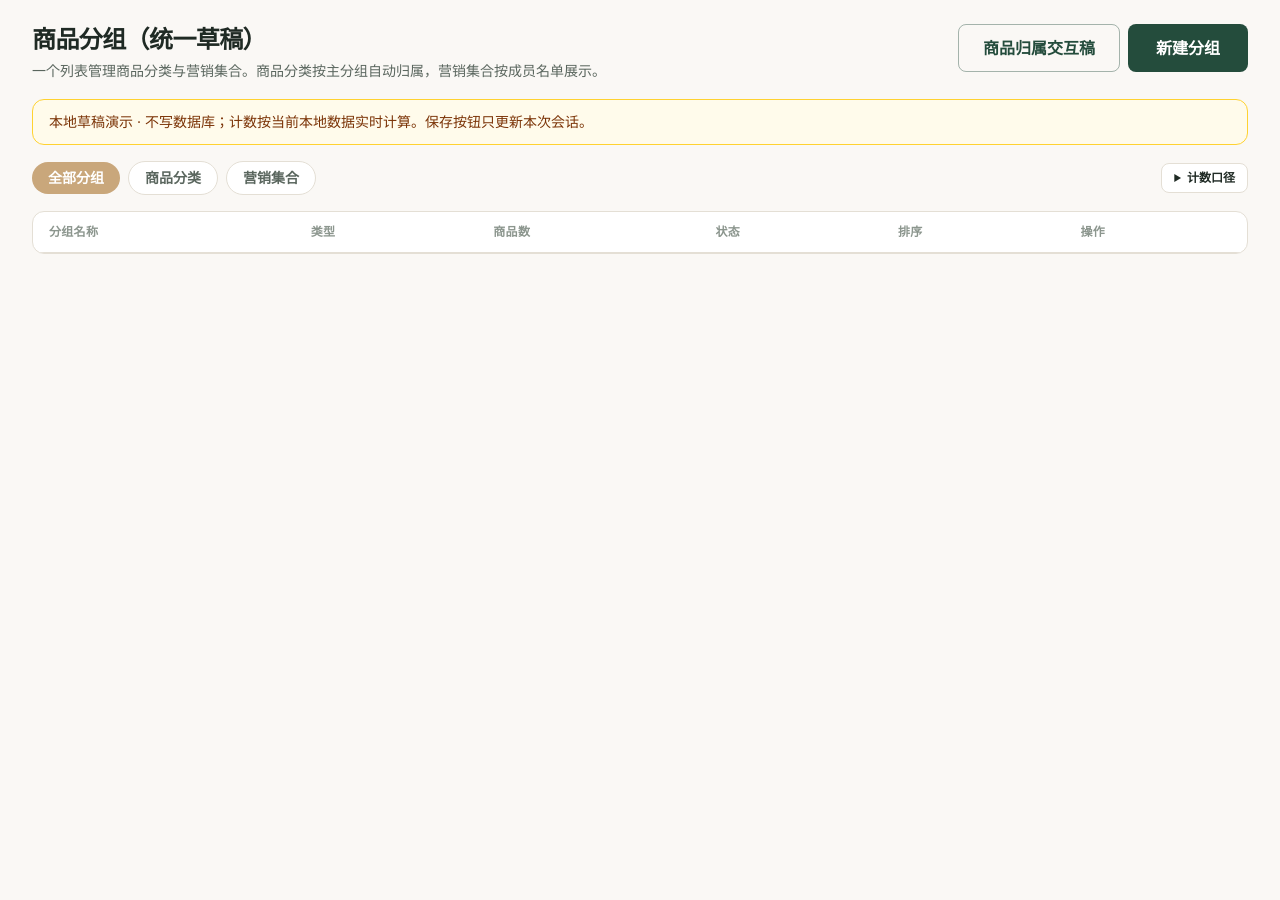
Test: UnifiedGroupsDraft › shows the selected product's thumbnail and SKU in the assignment draft
Expected: the heading "商品分组（统一草稿）" is shown, [32,25,266,54]
Step 1. Click the button "商品归属交互稿" → (1039, 48), box [958,24,1120,72]
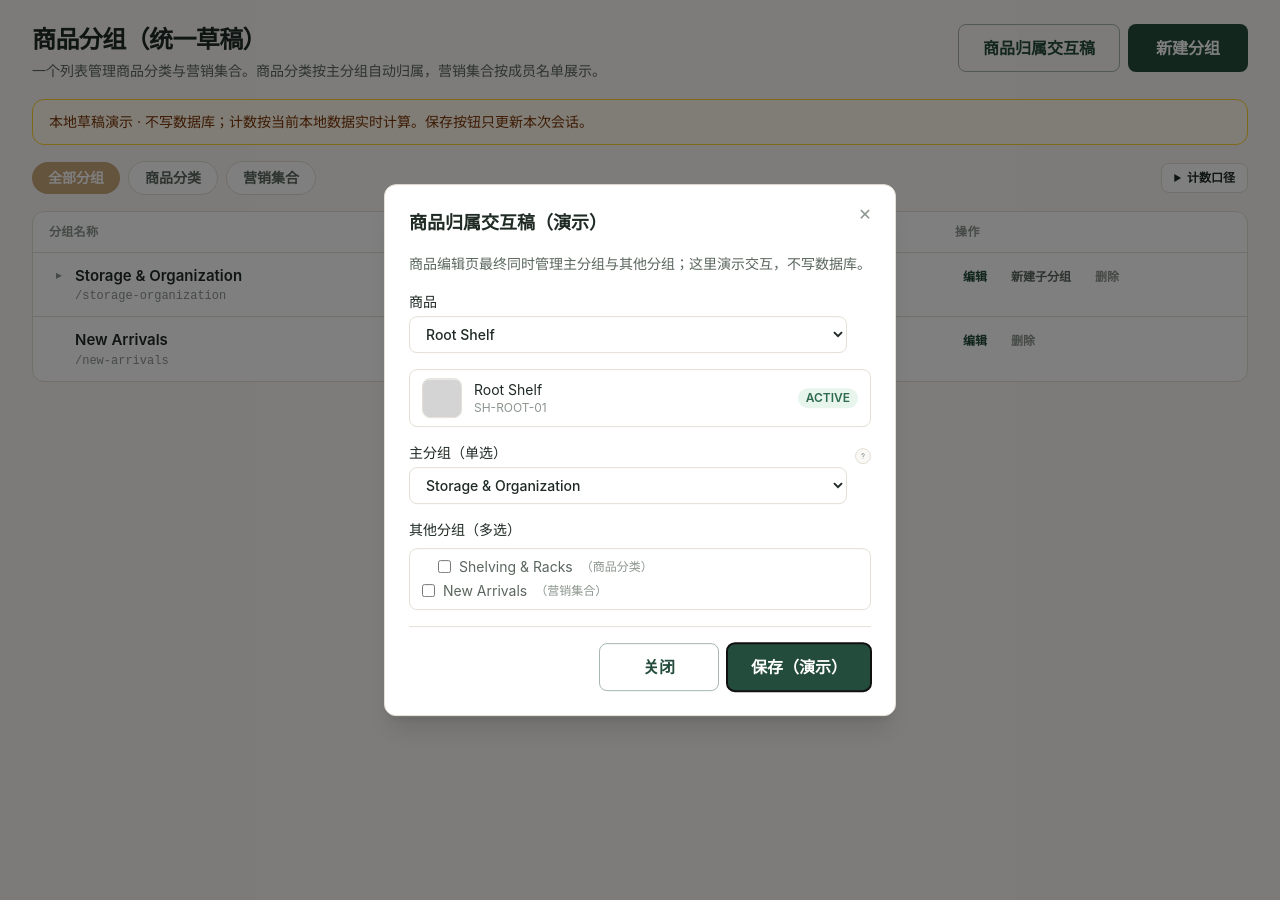
Expected: the text "SH-ROOT-01" is shown, [474,400,547,415]
